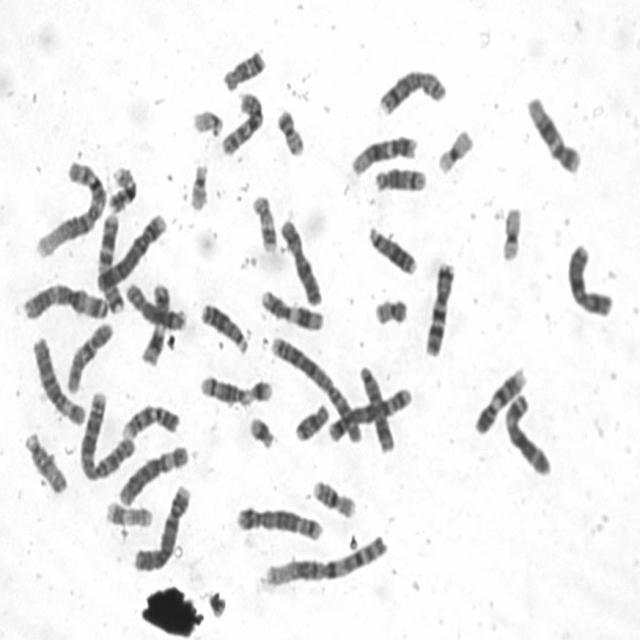A1: (260, 527, 390, 590), (31, 156, 108, 260)
A2: (266, 330, 364, 446), (75, 385, 137, 482)
A3: (501, 387, 555, 478), (18, 278, 111, 322)
B4: (92, 208, 168, 292), (130, 480, 192, 573)
B5: (324, 381, 414, 444), (232, 499, 324, 543)
C10: (62, 316, 115, 394), (216, 85, 266, 157)
C11: (256, 283, 326, 332), (137, 277, 172, 367)
C12: (522, 89, 584, 176), (348, 129, 420, 177)
C6: (28, 331, 86, 427), (114, 440, 190, 508)
C7: (421, 255, 458, 358), (94, 206, 127, 314)
C8: (374, 63, 448, 117), (121, 278, 188, 332)
C9: (471, 361, 529, 436), (118, 398, 182, 441)
D13: (196, 296, 250, 356), (364, 219, 418, 276)
D14: (195, 369, 252, 409), (371, 160, 430, 194)
D15: (358, 364, 398, 457), (20, 426, 70, 496)
E16: (308, 474, 358, 520), (104, 160, 140, 213)
E17: (248, 188, 278, 254), (101, 495, 154, 529)
E18: (218, 44, 268, 92), (291, 398, 331, 442)
F19: (433, 123, 476, 176), (497, 200, 525, 264)
F20: (272, 102, 306, 158), (369, 292, 410, 327)
G21: (245, 411, 277, 451), (244, 373, 275, 403)
G22: (185, 158, 210, 214), (188, 103, 225, 139)
X: (276, 212, 324, 308), (562, 237, 616, 319)
